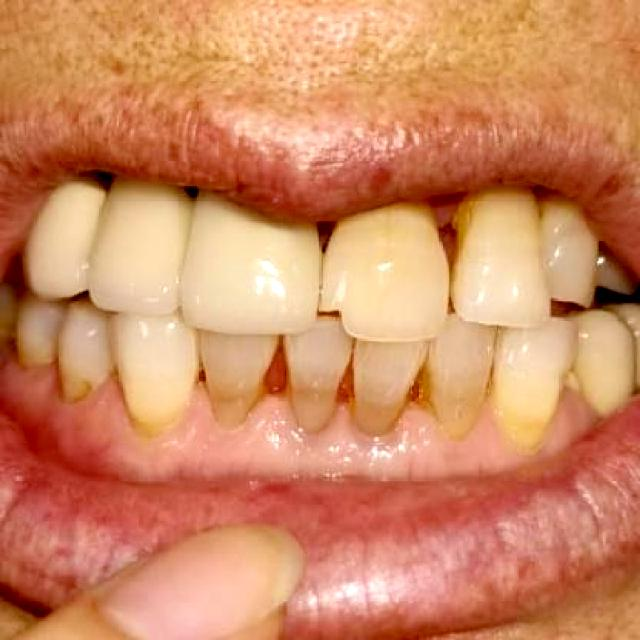Plaque: (67, 384, 518, 465)
